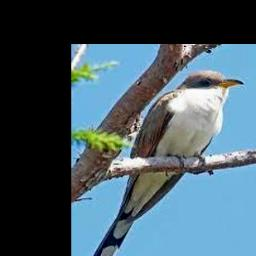Cuckoo: (81, 69, 245, 256)
